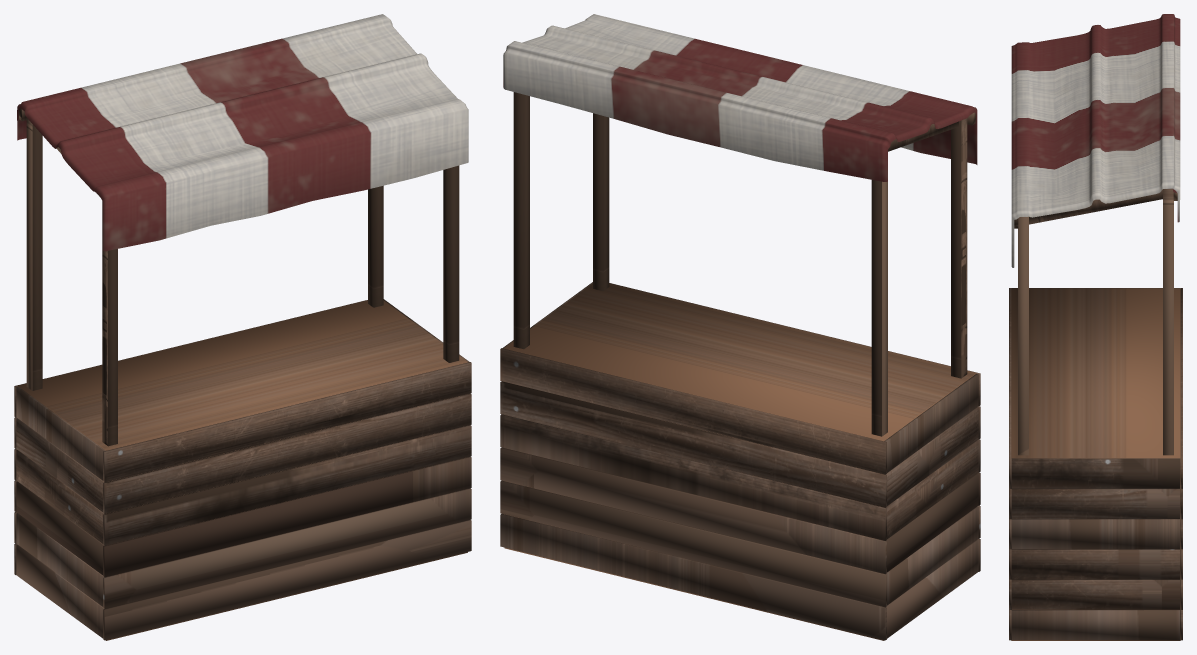
Rendered from tiendita.fbx.
The picture shows the model from 3 angles, left to right: view 1: azimuth 30°, elevation 25°; view 2: azimuth 150°, elevation 25°; view 3: azimuth 270°, elevation 25°; orthographic projection. The views are drawn at different scales.
Parts seen in each view (by area): view 1: Stall; view 2: Stall; view 3: Stall.
Part boxes in pixels (x1,y1,x2,y2): Stall: (14, 14, 471, 640); Stall: (500, 14, 980, 640); Stall: (1009, 14, 1182, 640).
Size of the model in its own units: 433 by 537 by 185.
